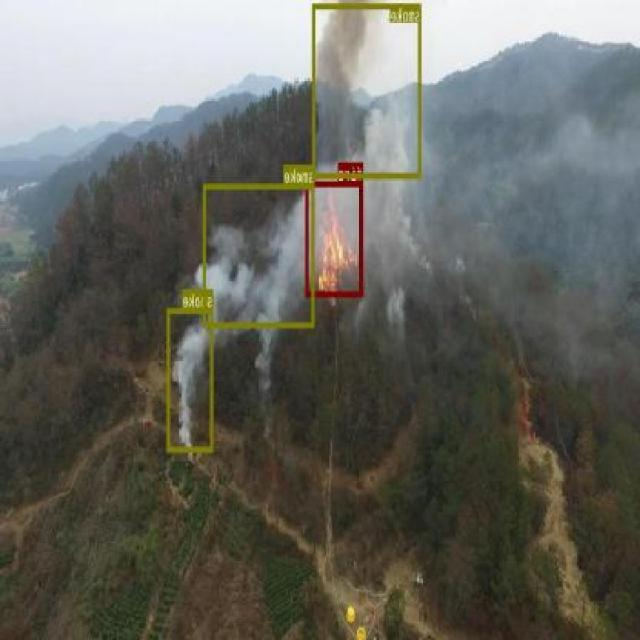Fire: (306, 180, 365, 294)
Smoke: (313, 3, 422, 177), (202, 183, 316, 326), (168, 306, 214, 452)
